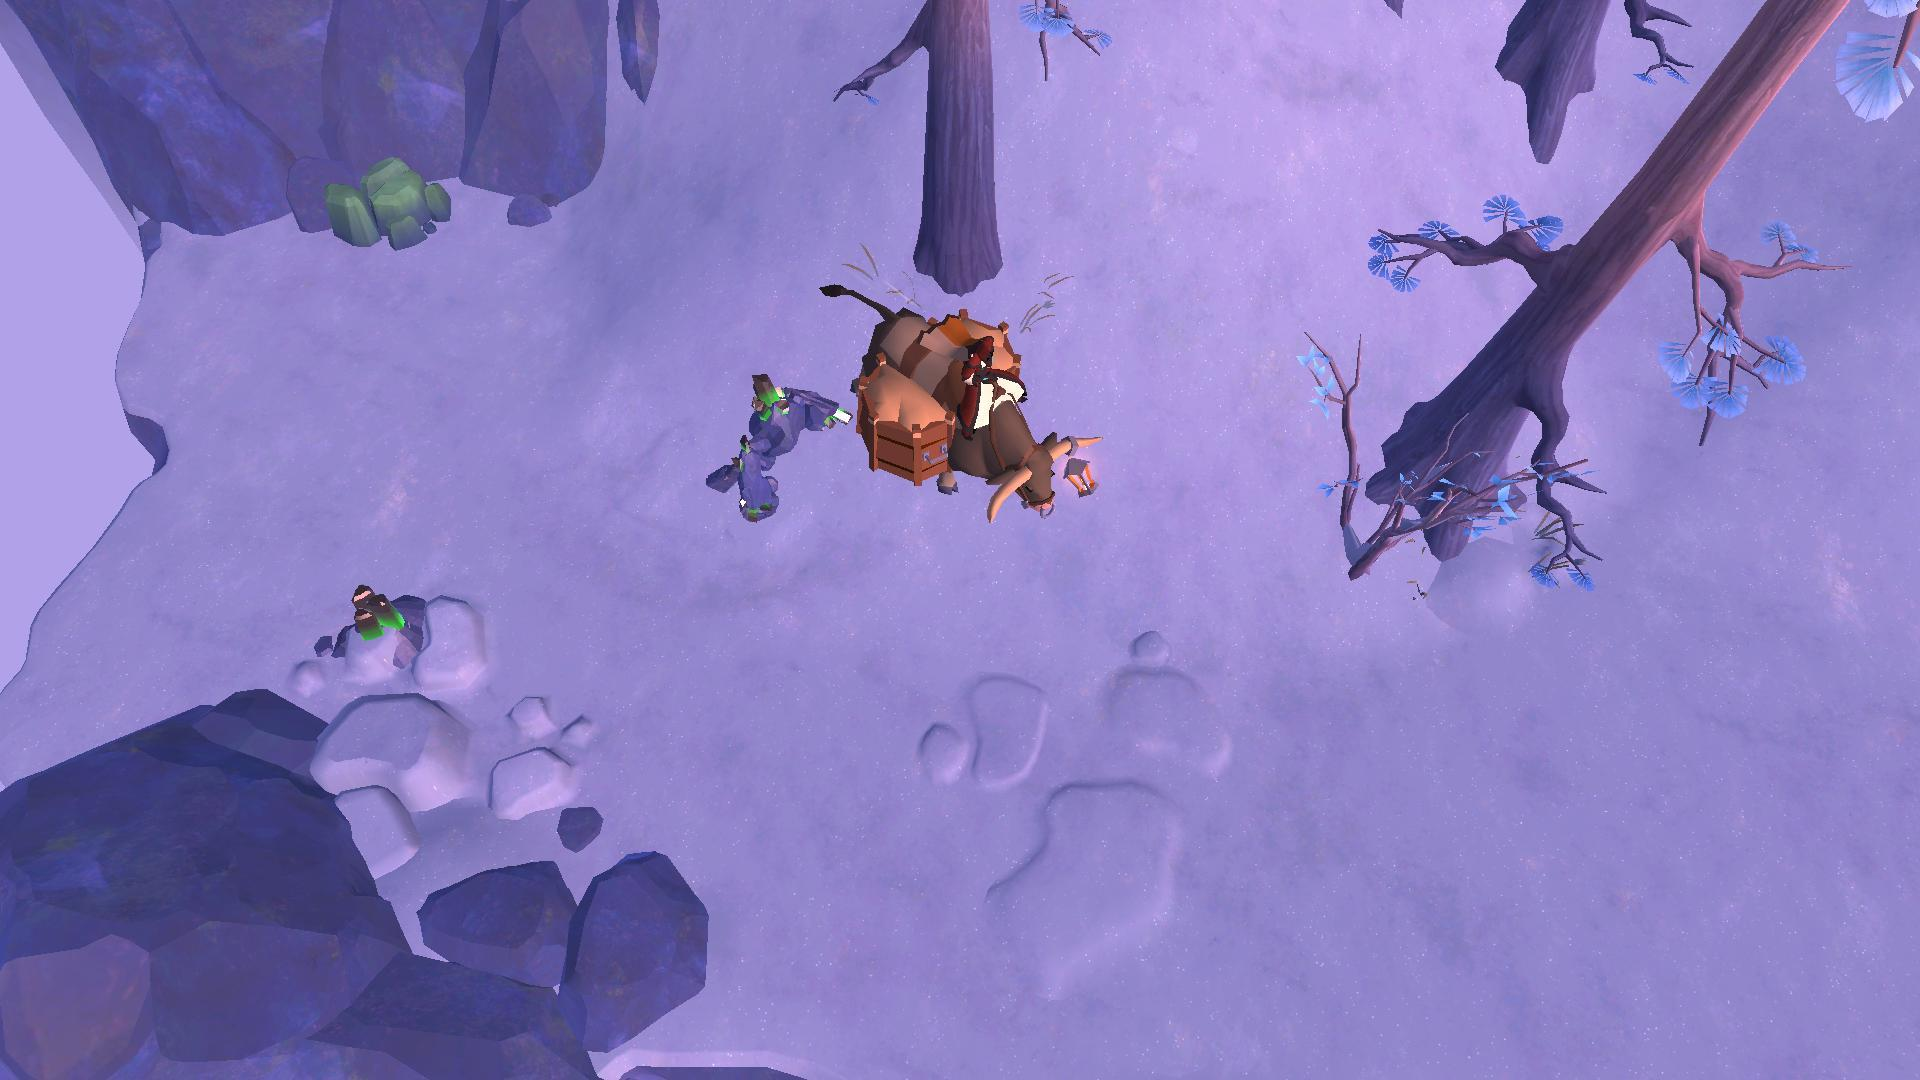ore_t3: (340, 585, 404, 650)
rock_t3: (322, 153, 458, 258)
